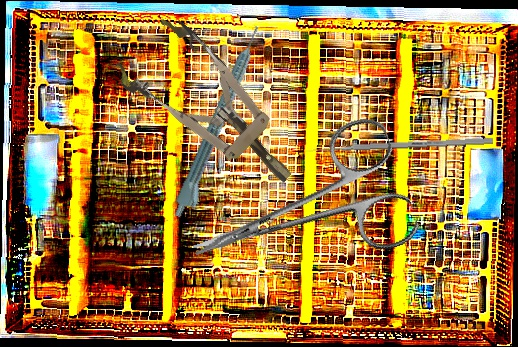Handpiece: (169, 23, 273, 223)
Iris Scissors: (171, 111, 423, 310)
Pusher: (303, 137, 494, 154)
Speculum: (108, 8, 317, 212)
